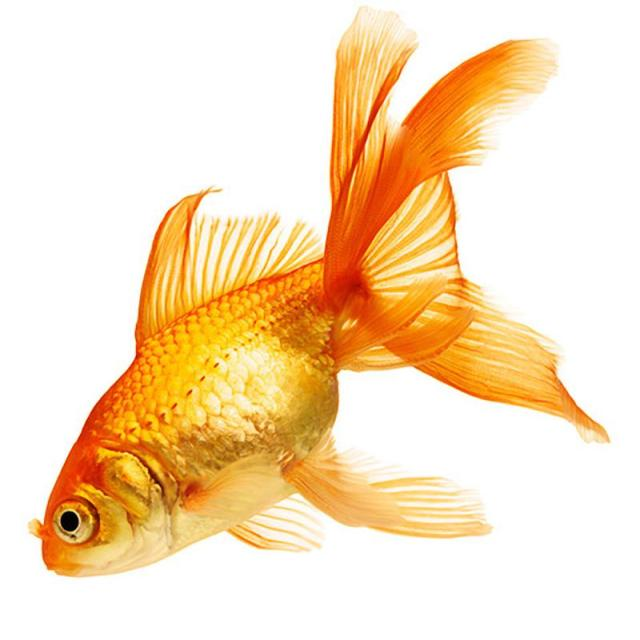GoldFish: (28, 0, 617, 578)
